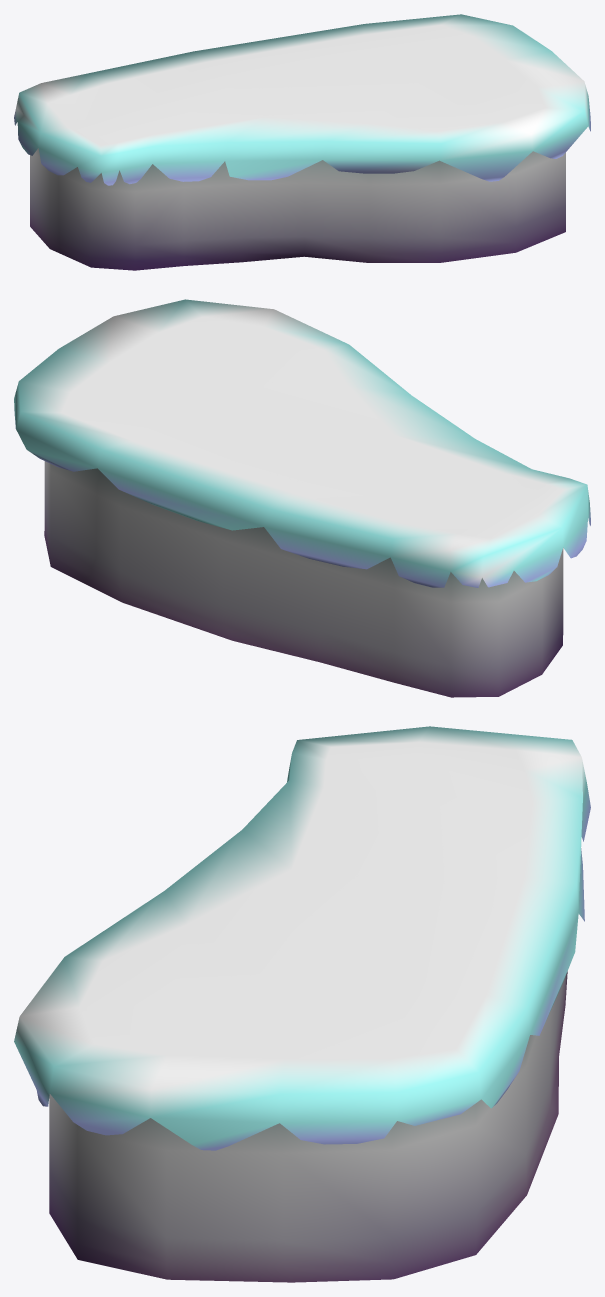
File: Block_01_H1_grass.fbx
3 views of the same model, one above another, from view 1: azimuth 30°, elevation 25°; view 2: azimuth 150°, elevation 25°; view 3: azimuth 270°, elevation 25° (orthographic). The views are drawn at different scales.
Visible parts, largest first — view 1: GrassLid, Rock-Base-col; view 2: GrassLid, Rock-Base-col; view 3: GrassLid, Rock-Base-col.
Boxes of the visible parts, bbox=[...] form: GrassLid: bbox=[14, 14, 590, 185]; Rock-Base-col: bbox=[30, 148, 565, 270]; GrassLid: bbox=[14, 299, 590, 587]; Rock-Base-col: bbox=[44, 461, 563, 697]; GrassLid: bbox=[14, 726, 590, 1150]; Rock-Base-col: bbox=[49, 971, 567, 1282].
Bounding box in the file's own units: 809 × 207 × 522.
